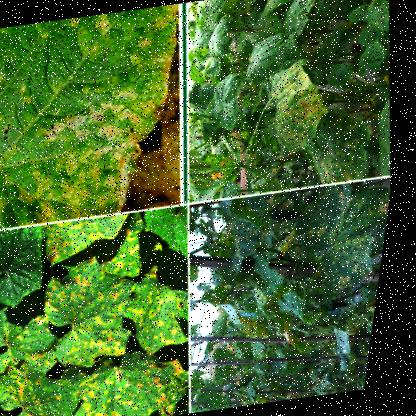DownyMildew: (0, 10, 155, 219), (48, 268, 142, 360)
